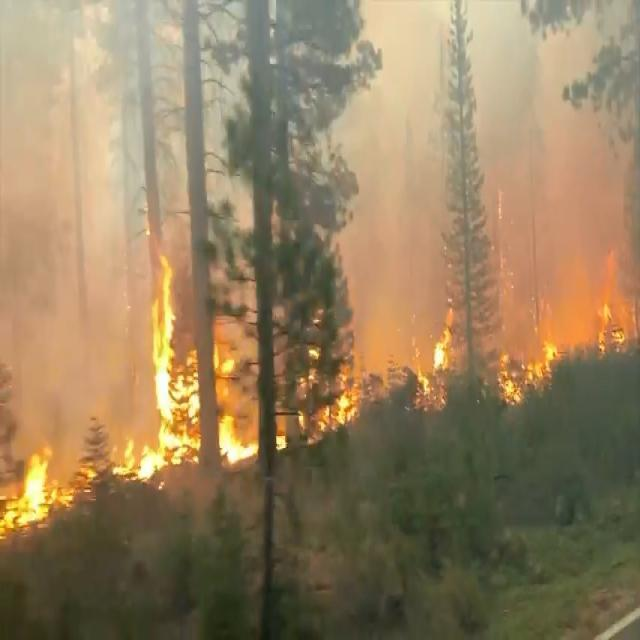Fire: (2, 215, 640, 542)
